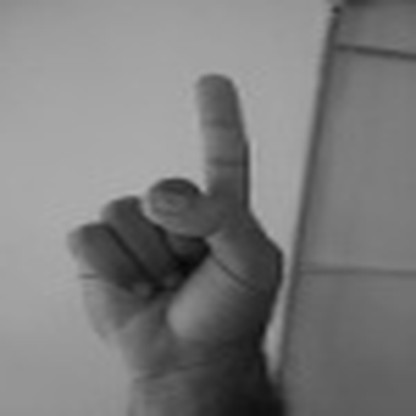d: (69, 71, 291, 355)
